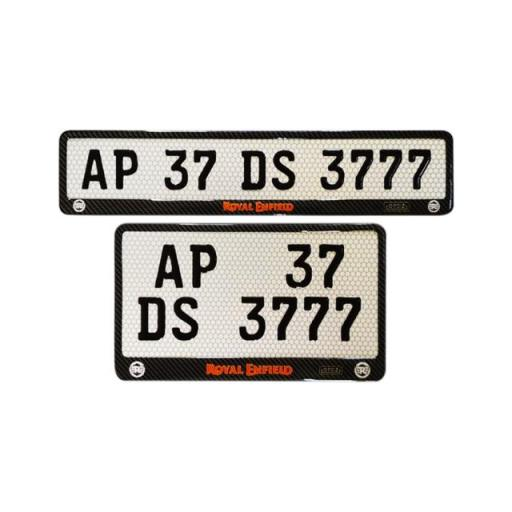number plate: (120, 226, 386, 376), (64, 133, 454, 212)
